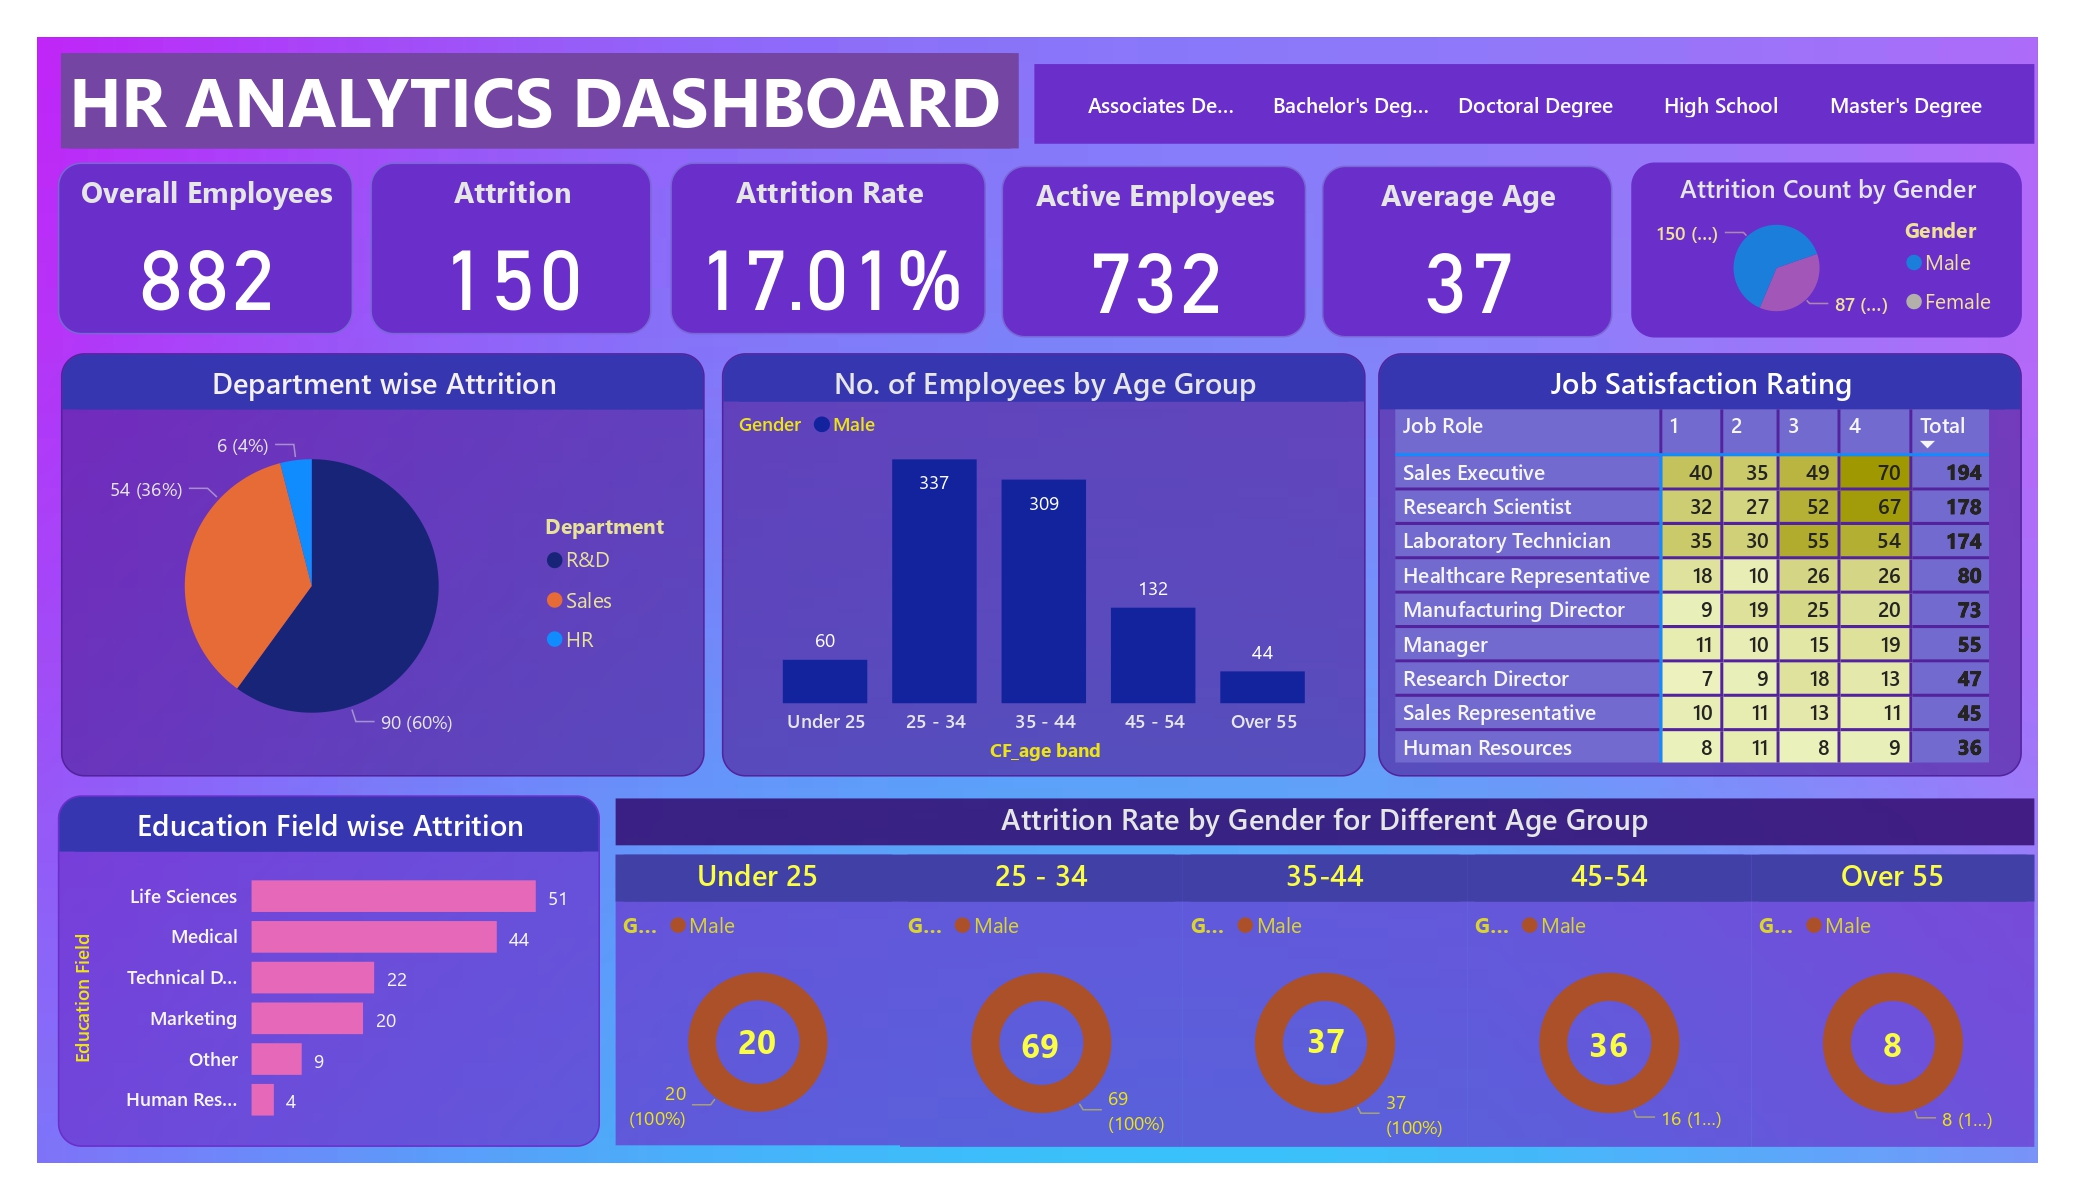

The page's visual inventory and layout, read from the dashboard file:
{"tool":"powerbi","page":{"name":"Page 1","canvas":[1280,720],"ordinal":0},"visuals":[{"type":"card","title":"Overall Employees","fields":{"Values":["Sum(HR data.Employee Count)"]},"box":[13.3,80,242,110],"z":0},{"type":"card","title":"Attrition","fields":{"Values":["Sum(HR data.Attrition Count)"]},"box":[265,78.3,242,110],"z":1000},{"type":"card","title":"Attrition Rate","fields":{"Values":["HR data.Attrition_Count"]},"box":[516.7,78.3,242,110],"z":2000},{"type":"card","title":"Active Employees","fields":{"Values":["HR data.Active_Employees"]},"box":[770,78.3,242,110],"z":3000},{"type":"card","title":"Average Age ","fields":{"Values":["Avg(HR data.Age)"]},"box":[1026.7,78.3,241.7,110],"z":4000},{"type":"pieChart","title":"Department wise Attrition","fields":{"Category":["HR data.Department"],"Y":["Sum(HR data.Attrition Count)"]},"box":[13.3,201.7,412,271.7],"z":5000},{"type":"columnChart","title":"No. of Employees by Age Group","fields":{"Category":["HR data.CF_age band"],"Y":["Sum(HR data.Employee Count)"],"Series":["HR data.Gender"]},"box":[438.3,201.7,412,271.7],"z":6000},{"type":"pivotTable","title":"Job Satisfaction Rating","fields":{"Rows":["HR data.Job Role"],"Columns":["HR data.Job Satisfaction"],"Values":["Sum(HR data.Employee Count)"]},"box":[858.3,201.7,412,271.7],"z":7000},{"type":"barChart","title":"Education Field wise Attrition","fields":{"Category":["HR data.Education Field"],"Y":["Sum(HR data.Attrition Count)"]},"box":[13.3,485,346.7,225],"z":8000},{"type":"donutChart","title":"Under 25","fields":{"Category":["HR data.Gender"],"Y":["Sum(HR data.Attrition Count)"],"Series":["HR data.CF_age band"]},"box":[370,523.3,181.7,186],"z":9000},{"type":"textbox","title":"Attrition Rate by Gender for Different Age Group ","box":[370,486.7,908.3,30],"z":10000},{"type":"donutChart","title":"25 - 34","fields":{"Category":["HR data.Gender"],"Y":["Sum(HR data.Attrition Count)"],"Series":["HR data.CF_age band"]},"box":[551.7,523.3,181.7,186.7],"z":11000},{"type":"donutChart","title":"35-44","fields":{"Category":["HR data.Gender"],"Y":["Sum(HR data.Attrition Count)"],"Series":["HR data.CF_age band"]},"box":[733.3,523.3,181.7,186.7],"z":12000},{"type":"donutChart","title":"45-54","fields":{"Category":["HR data.Gender"],"Y":["Sum(HR data.Attrition Count)"],"Series":["HR data.CF_age band"]},"box":[915,525,181.7,186.7],"z":13000},{"type":"donutChart","title":"Over 55","fields":{"Category":["HR data.Gender"],"Y":["Sum(HR data.Attrition Count)"],"Series":["HR data.CF_age band"]},"box":[1096.7,525,181.7,186.7],"z":14000},{"type":"card","fields":{"Values":["Sum(HR data.Attrition Count)"]},"box":[443.3,630,35,28.3],"z":15000},{"type":"card","fields":{"Values":["Sum(HR data.Attrition Count)"]},"box":[615,628.3,53.3,36.7],"z":16000},{"type":"card","fields":{"Values":["Sum(HR data.Attrition Count)"]},"box":[796.7,613.3,55,60],"z":17000},{"type":"card","fields":{"Values":["Sum(HR data.Attrition Count)"]},"box":[983.3,616.7,45,58.3],"z":18000},{"type":"card","fields":{"Values":["Sum(HR data.Attrition Count)"]},"box":[1161.7,626.7,51.7,38.3],"z":19000},{"type":"textbox","title":"HR ANALYTICS DASHBOARD","box":[15,10,613.3,61],"z":20000},{"type":"slicer","fields":{"Values":["HR data.Education"]},"box":[638.3,16.7,640,51],"z":20001}]}

Visuals, with their boxes in screenshot pixels (x1, y1, x2, y2):
"Overall Employees" card: box(27, 144, 414, 320)
"Attrition" card: box(429, 141, 816, 317)
"Attrition Rate" card: box(831, 141, 1218, 317)
"Active Employees" card: box(1236, 141, 1623, 317)
"Average Age " card: box(1647, 141, 2033, 317)
"Department wise Attrition" pieChart: box(27, 339, 685, 773)
"No. of Employees by Age Group" columnChart: box(706, 339, 1365, 773)
"Job Satisfaction Rating" pivotTable: box(1378, 339, 2036, 773)
"Education Field wise Attrition" barChart: box(27, 792, 581, 1151)
"Under 25" donutChart: box(597, 853, 887, 1150)
"Attrition Rate by Gender for Different Age Group " textbox: box(597, 794, 2049, 842)
"25 - 34" donutChart: box(887, 853, 1178, 1151)
"35-44" donutChart: box(1178, 853, 1468, 1151)
"45-54" donutChart: box(1468, 856, 1759, 1154)
"Over 55" donutChart: box(1759, 856, 2049, 1154)
card - Sum(HR data.Attrition Count): box(714, 1023, 770, 1069)
card - Sum(HR data.Attrition Count): box(989, 1021, 1074, 1079)
card - Sum(HR data.Attrition Count): box(1279, 997, 1367, 1093)
card - Sum(HR data.Attrition Count): box(1577, 1002, 1649, 1095)
card - Sum(HR data.Attrition Count): box(1863, 1018, 1945, 1079)
"HR ANALYTICS DASHBOARD" textbox: box(29, 32, 1010, 130)
slicer - HR data.Education: box(1026, 43, 2049, 124)
